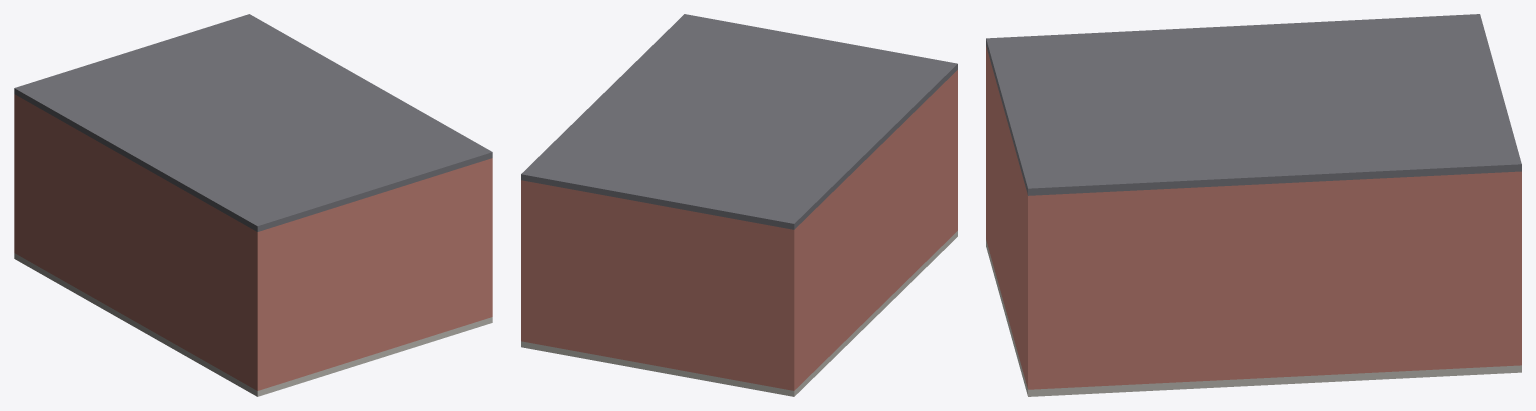
The model's file is carters.glb.
The picture shows the model from 3 angles, left to right: view 1: azimuth 30°, elevation 25°; view 2: azimuth 150°, elevation 25°; view 3: azimuth 270°, elevation 25°; orthographic projection. The views are drawn at different scales.
Visible parts, largest first — view 1: carters_walls, carters_roof, carters_plinth; view 2: carters_walls, carters_roof, carters_plinth; view 3: carters_walls, carters_roof, carters_plinth.
Boxes of the visible parts, x1,y1,x2,y2 form: carters_walls: (14,94,492,390); carters_roof: (14,14,492,231); carters_plinth: (14,253,492,396); carters_walls: (521,70,957,390); carters_roof: (521,14,957,229); carters_plinth: (521,231,957,396); carters_walls: (986,46,1521,389); carters_roof: (986,14,1521,195); carters_plinth: (986,240,1521,396).
Bounding box in the file's own units: 15.45 × 8.59 × 20.03.
